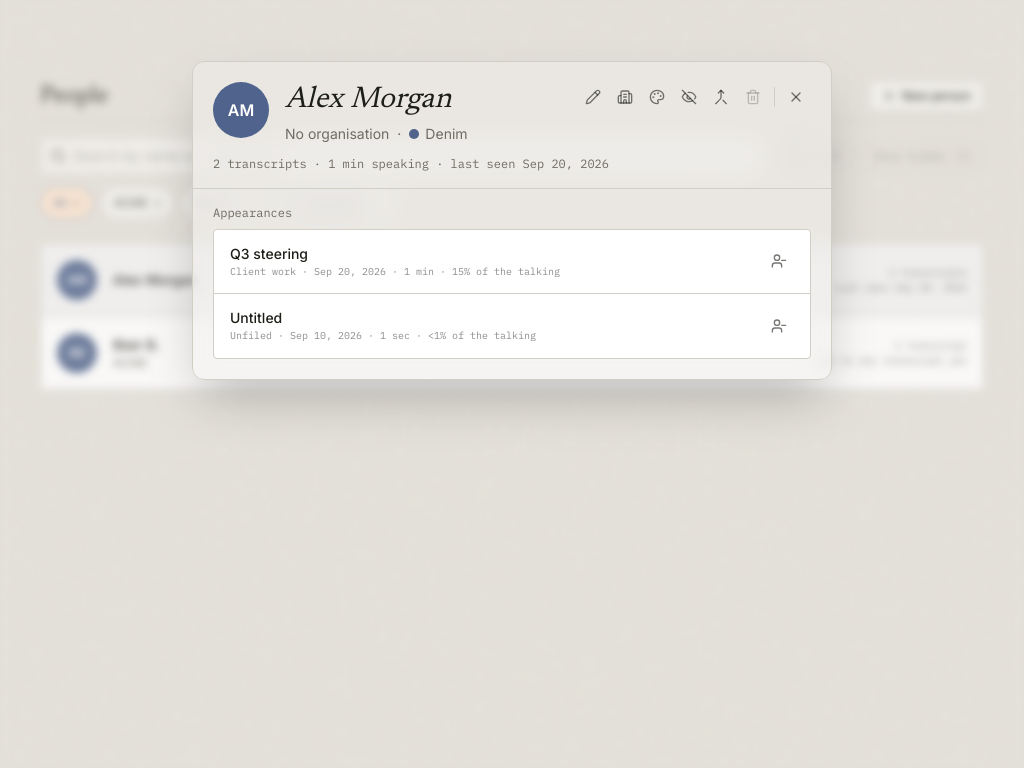
merge › a donor whose name ends in a full stop does not double it
The image size is (1024, 768).
expect the dialog is shown: met, box [192,61,832,380]
expect the heading "Appearances" is shown: met, box [213,205,292,220]
Step 1. Click the button named "Merge people" → [721, 97], box [706,82,736,112]
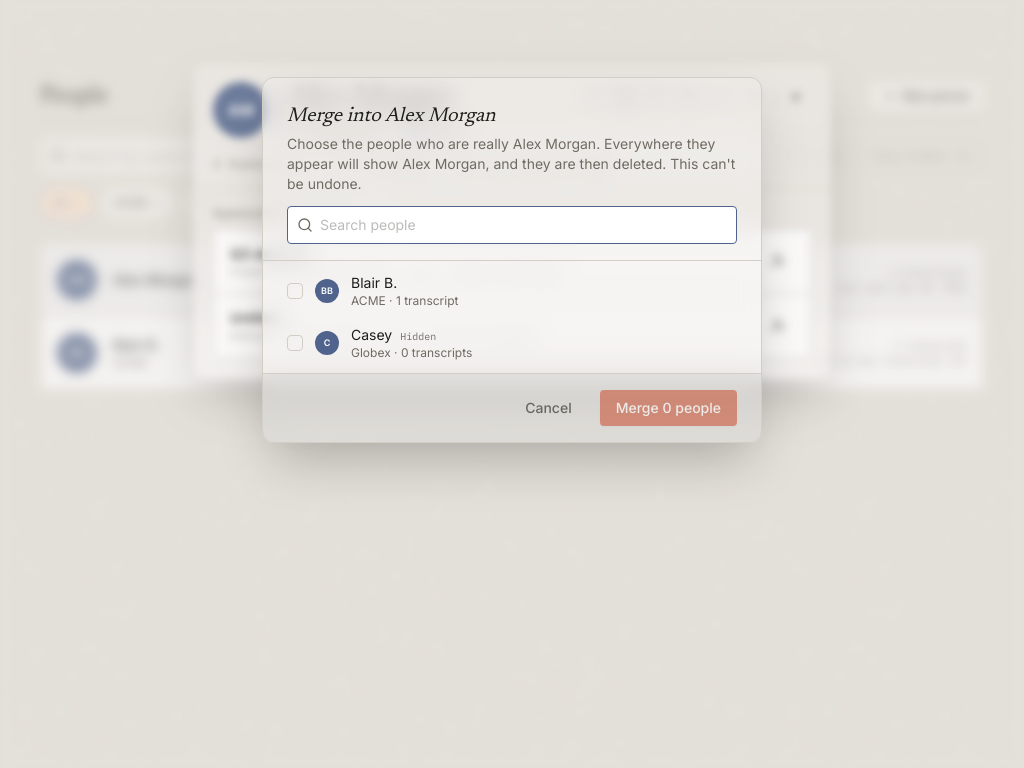
Step 2. Click the checkbox labelled "BB Blair B. ACME · 1 transcript" → [374, 282], box [263,265,761,317]
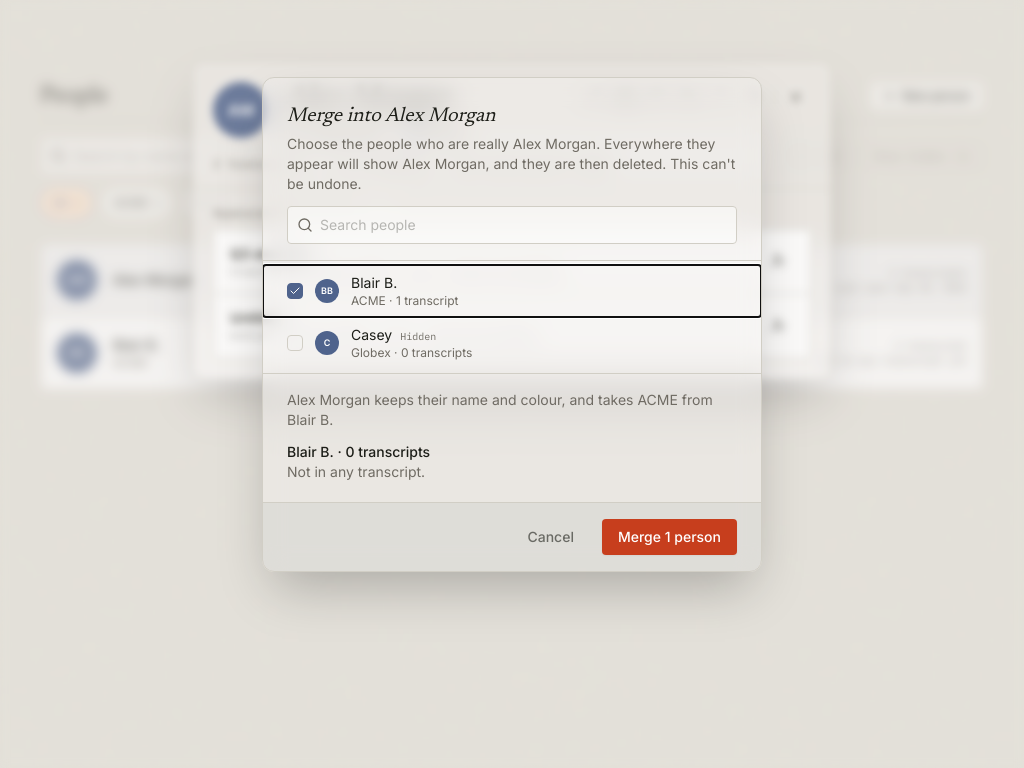
expect the text "Alex Morgan keeps their name and colour, and takes ACME from Blair B." is shown: met, box [287,390,737,430]
